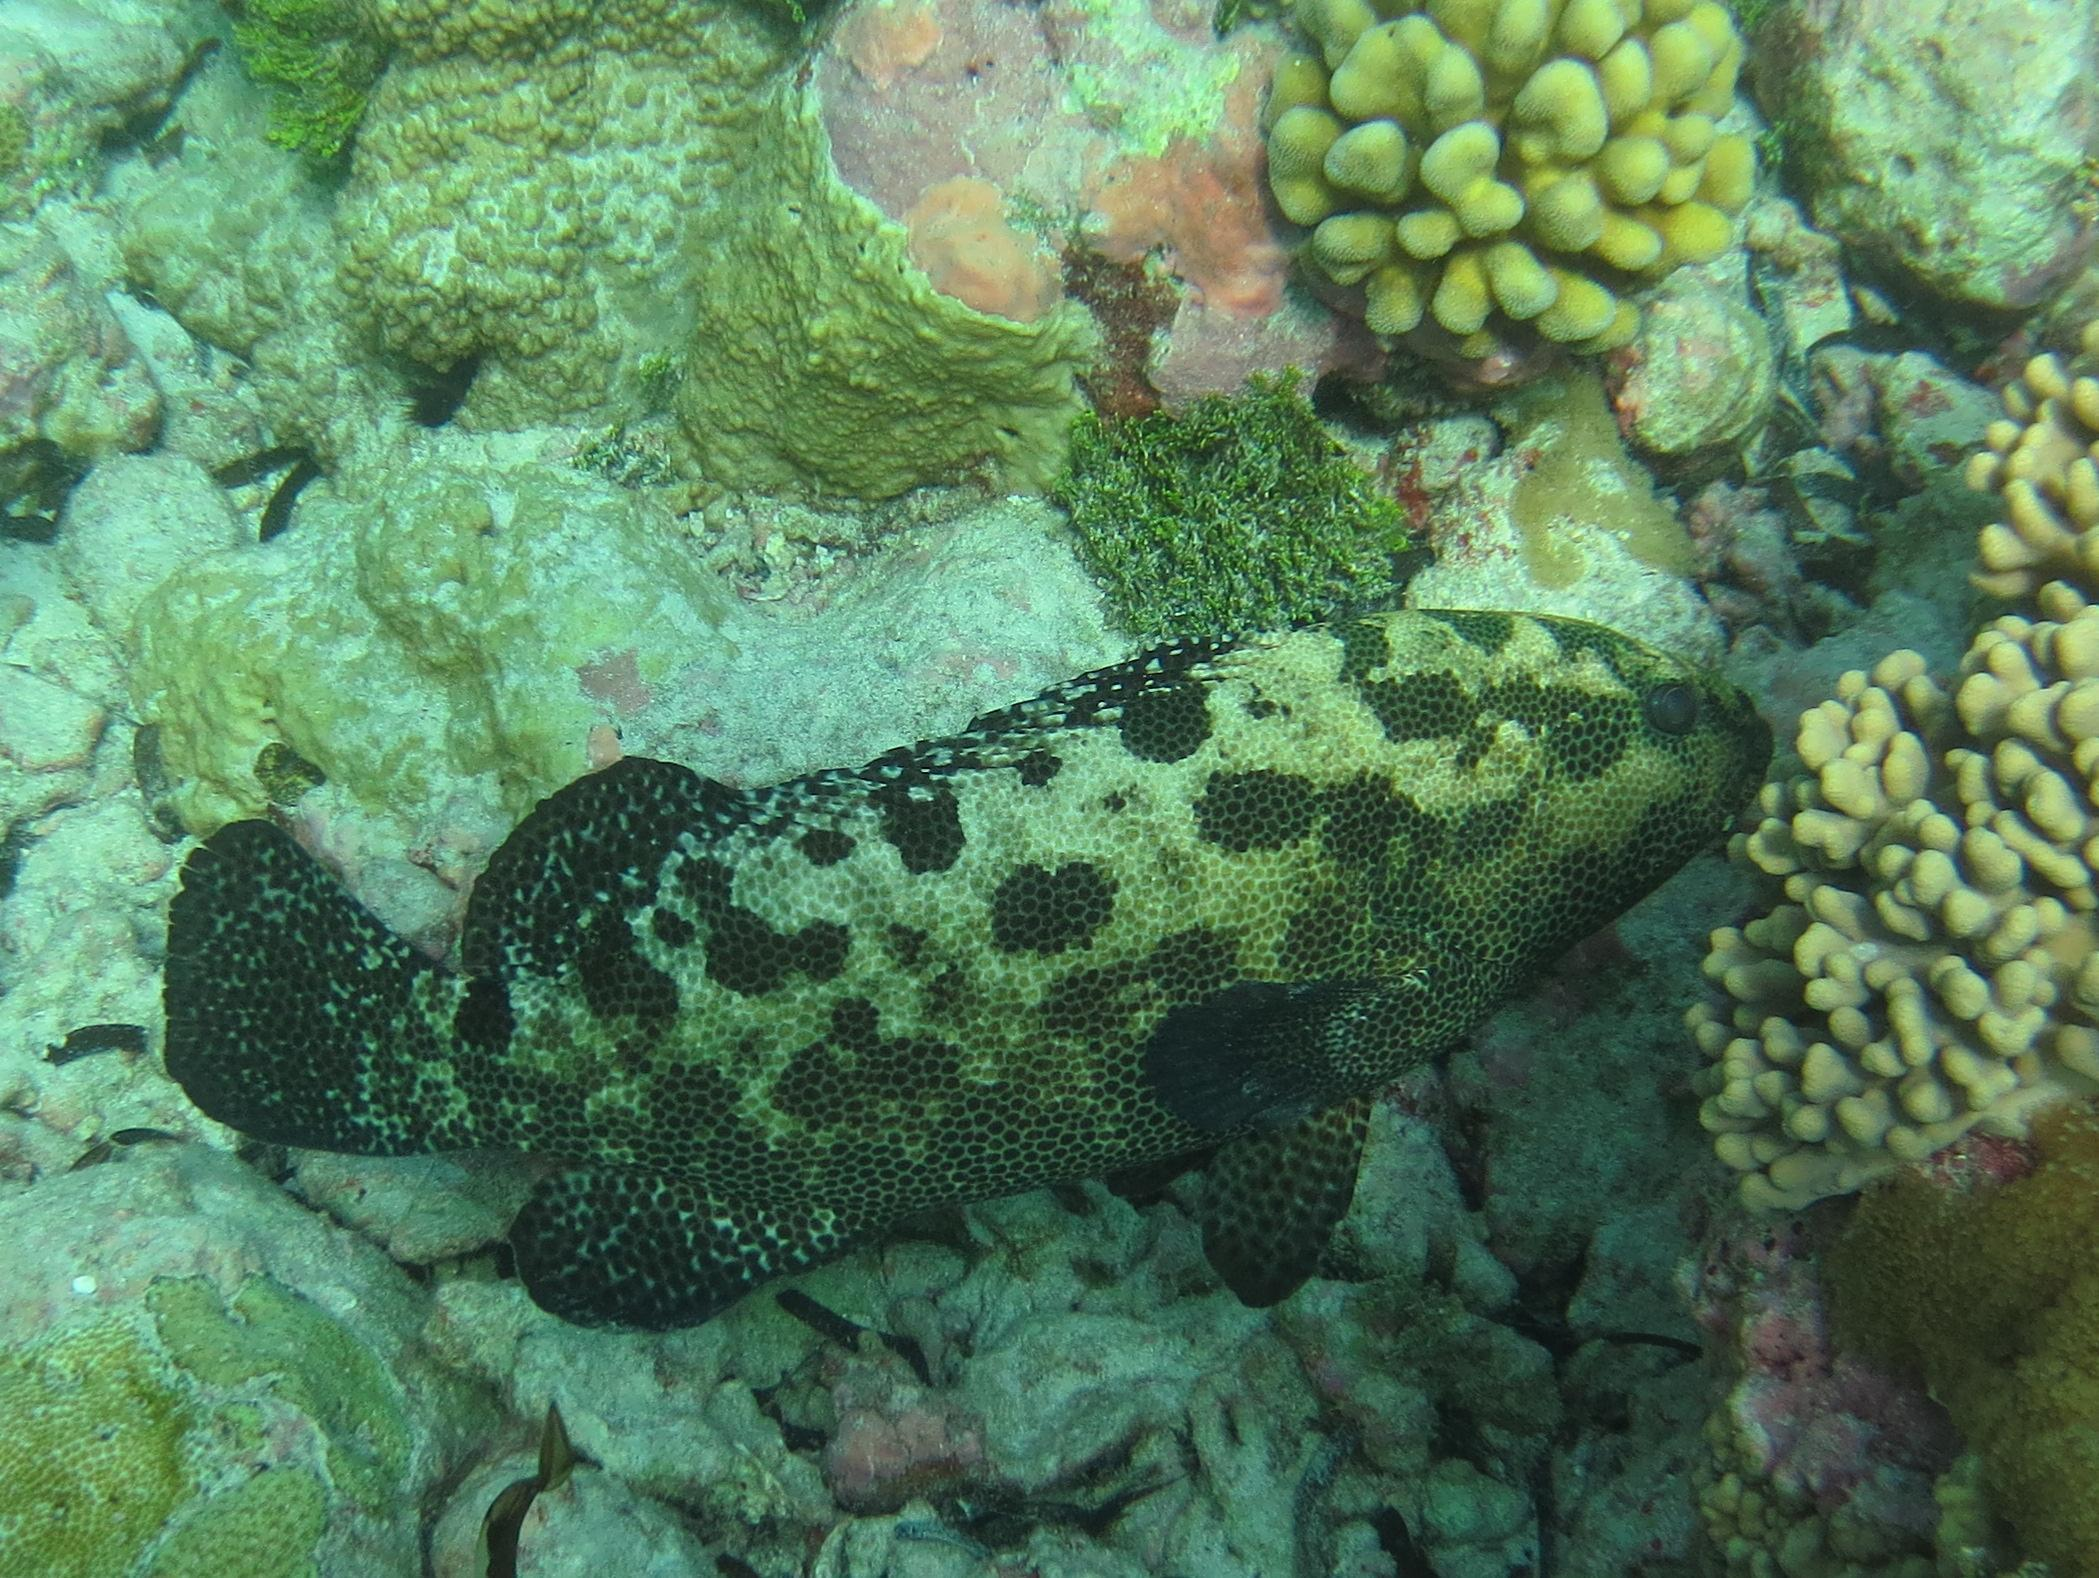Fish: (108, 530, 1827, 1406)
